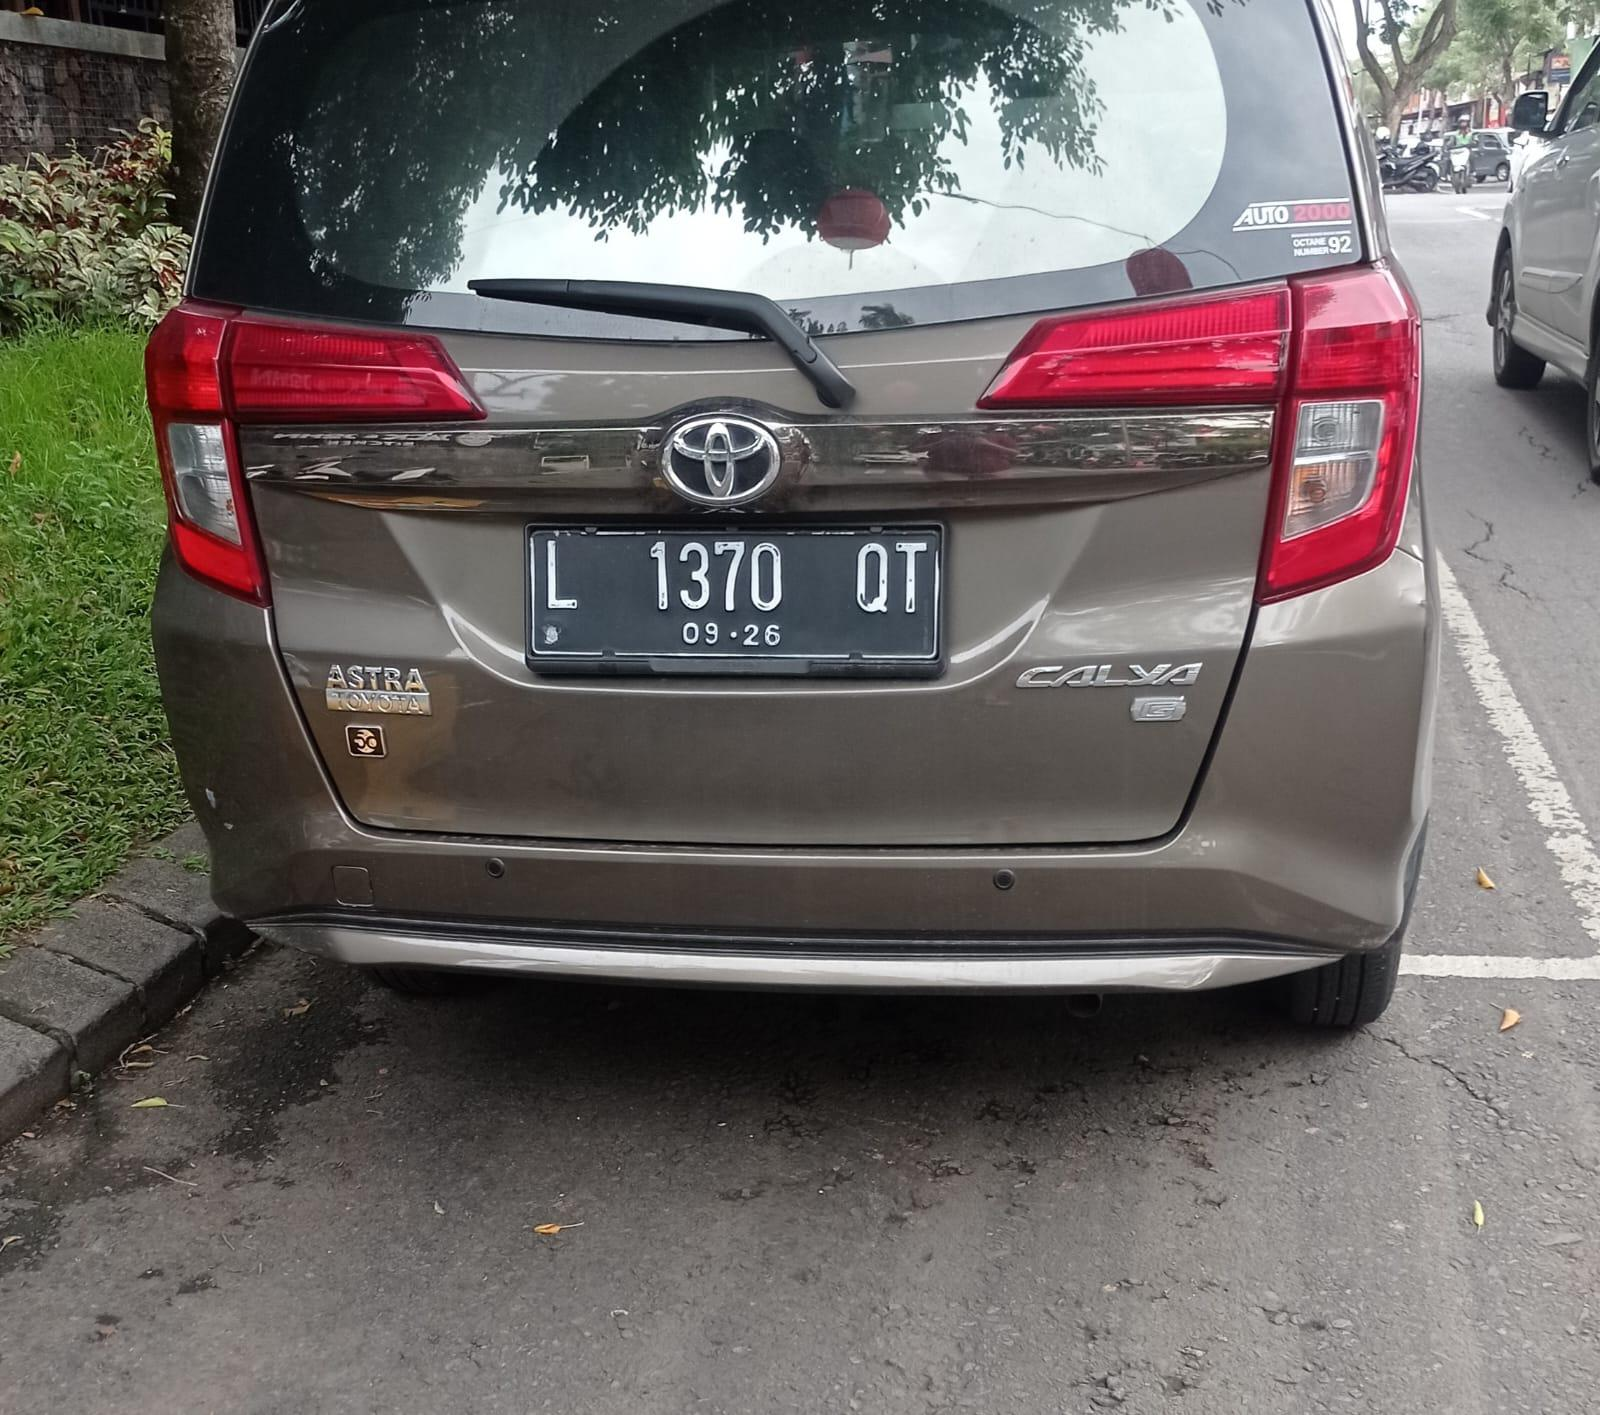plat: (528, 524, 943, 675)
